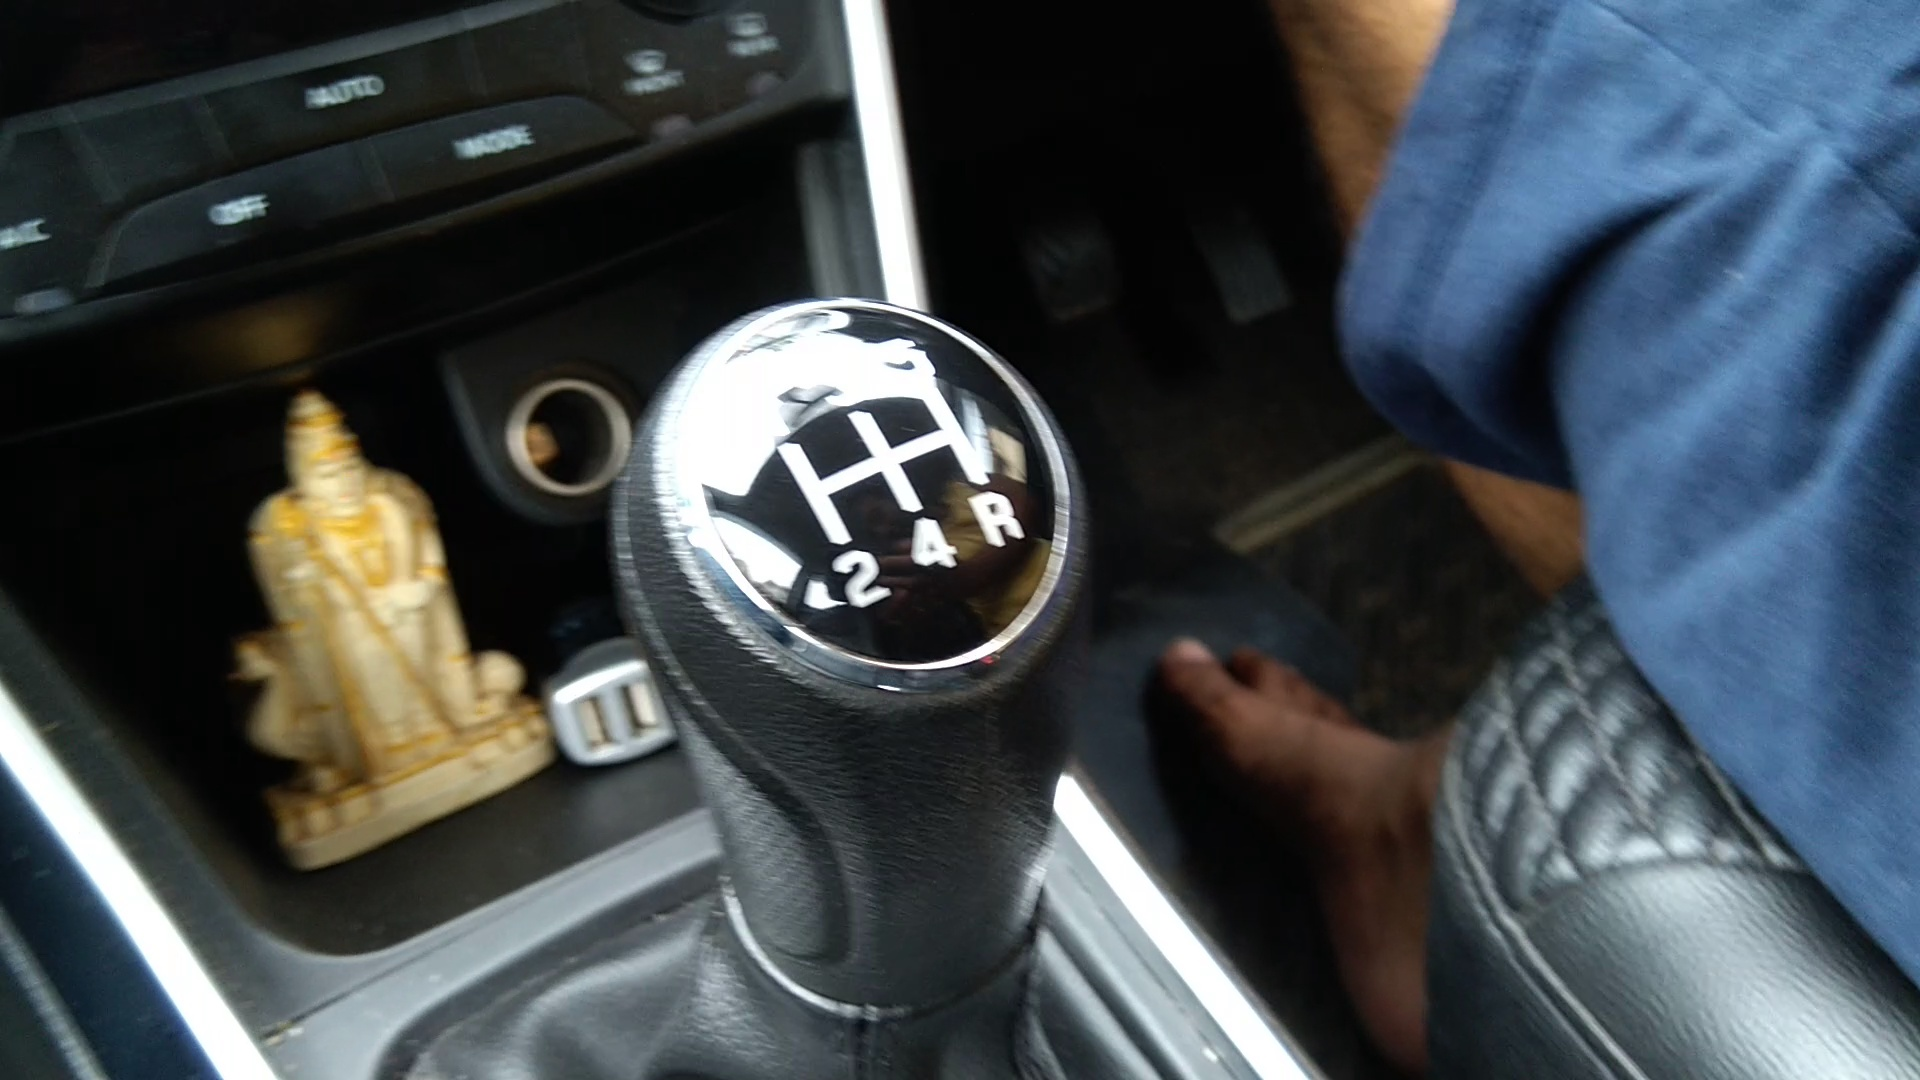manual_gear: (604, 282, 1131, 1075)
